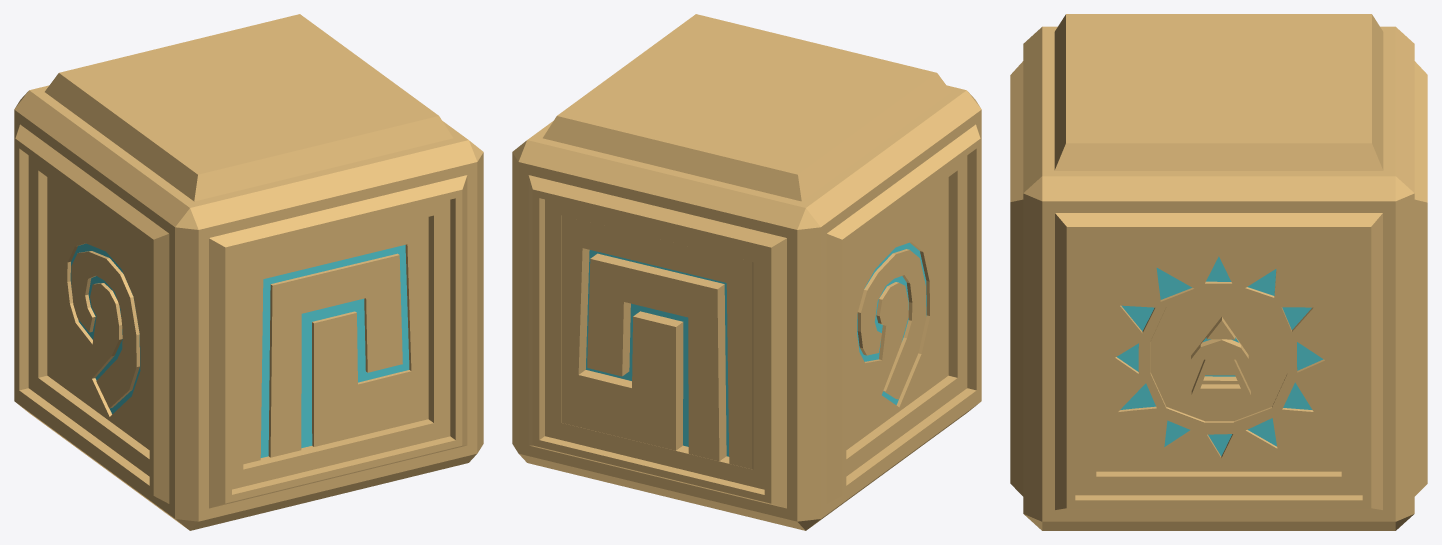
Rendered from pilares.fbx.
3 renders of one model, left to right at view 1: azimuth 30°, elevation 25°; view 2: azimuth 150°, elevation 25°; view 3: azimuth 270°, elevation 25°, orthographic. The views are drawn at different scales.
Visible parts, largest first — view 1: Cube, Cube.004; view 2: Cube, Cube.004; view 3: Cube, Cube.004.
Boxes of the visible parts, bbox=[...] form: Cube: bbox=[14, 14, 483, 530]; Cube.004: bbox=[70, 243, 409, 457]; Cube: bbox=[512, 14, 981, 530]; Cube.004: bbox=[585, 242, 926, 456]; Cube: bbox=[1010, 14, 1427, 530]; Cube.004: bbox=[1117, 256, 1323, 456].
Size of the model in its own units: 213 by 213 by 213.
